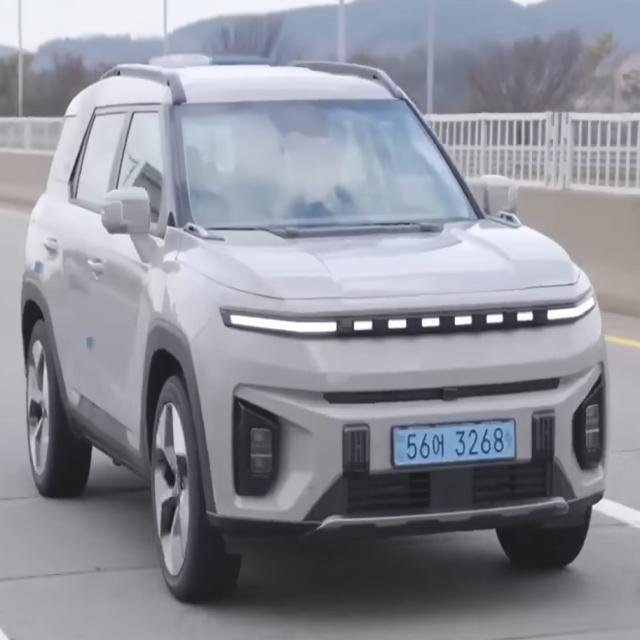car: (377, 406, 533, 484)
carev: (390, 424, 409, 473), (502, 420, 519, 465)
